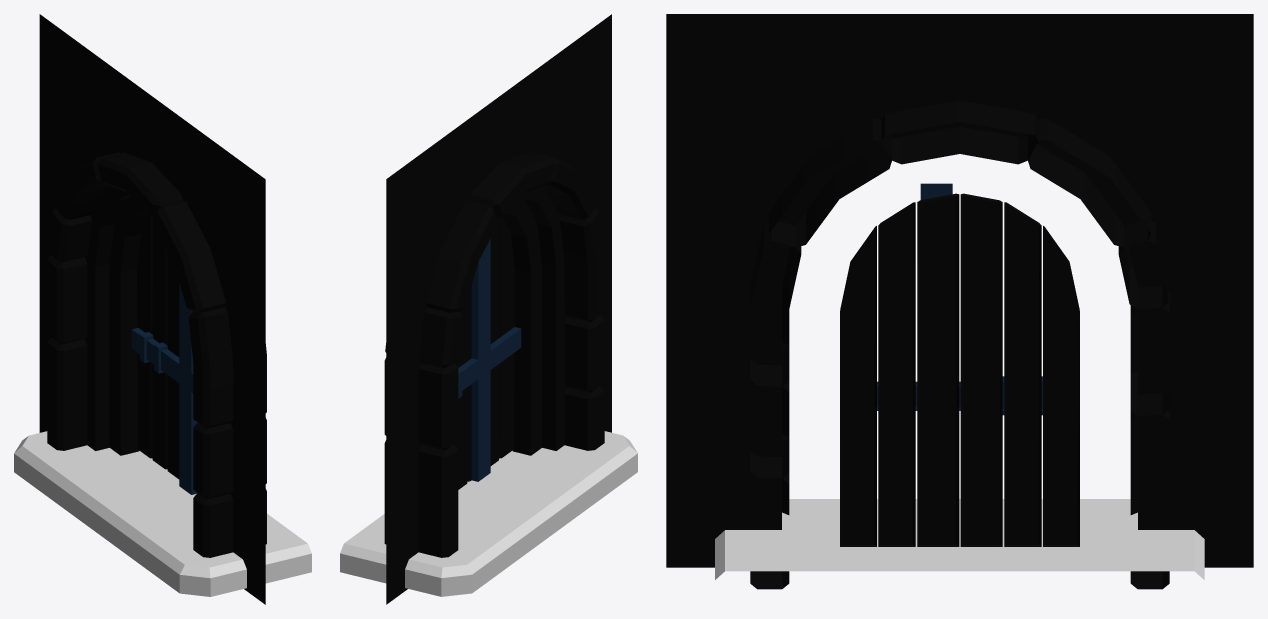
File: standard_door_4.FBX
The picture shows the model from 3 angles, left to right: view 1: azimuth 30°, elevation 25°; view 2: azimuth 150°, elevation 25°; view 3: azimuth 270°, elevation 25°; orthographic projection. The views are drawn at different scales.
Parts seen in each view (by area): view 1: standard_door_4; view 2: standard_door_4; view 3: standard_door_4.
Part boxes in pixels (box(x1,y1,x2,y2)): standard_door_4: box(14, 14, 311, 604); standard_door_4: box(340, 14, 637, 604); standard_door_4: box(666, 14, 1253, 589).
Bounding box in the file's own units: 128 × 431 × 414.
